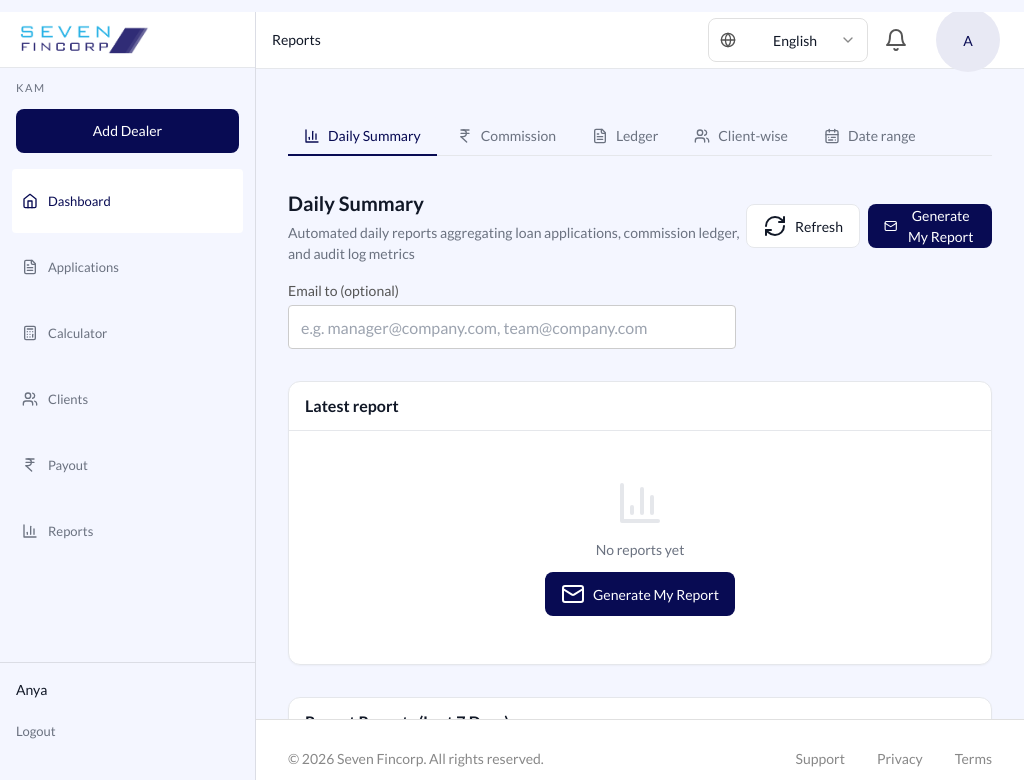
Test case: Reports page for a KAM › says there is no data when the ledger range is empty
The image size is (1024, 780).
Expected: the 1st button "Generate My Report" is shown, [868, 204, 992, 248]
Click the button "Ledger": (625, 136) [576, 117, 674, 156]
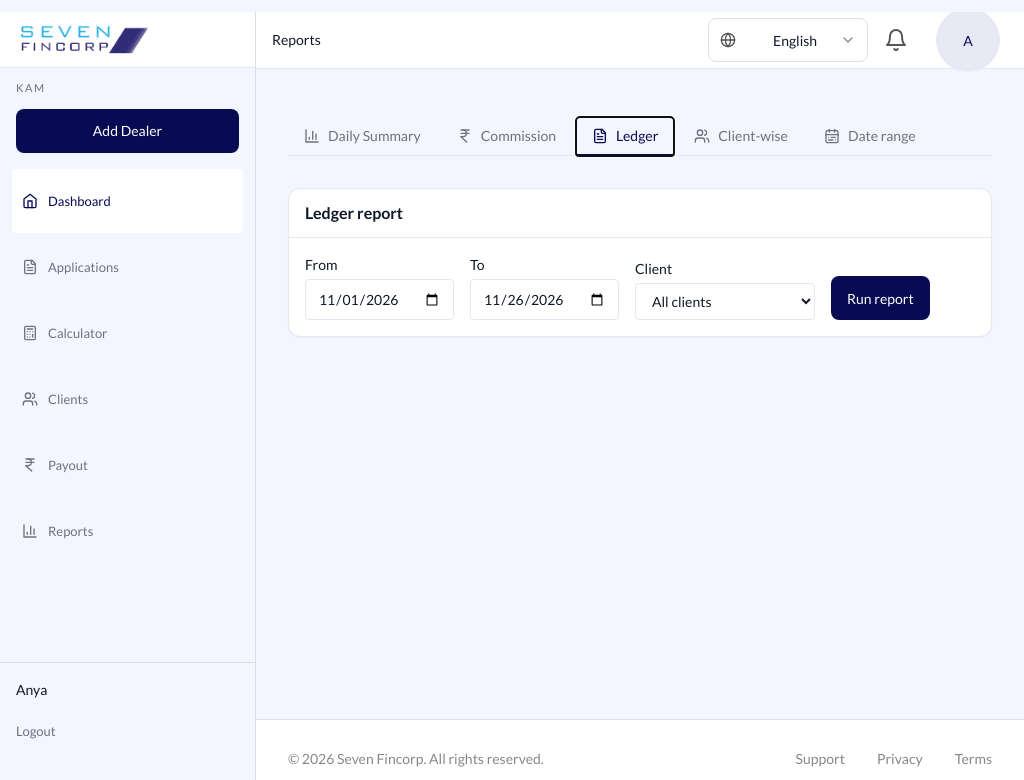
Click the button "Run report": (880, 298) [831, 276, 930, 320]
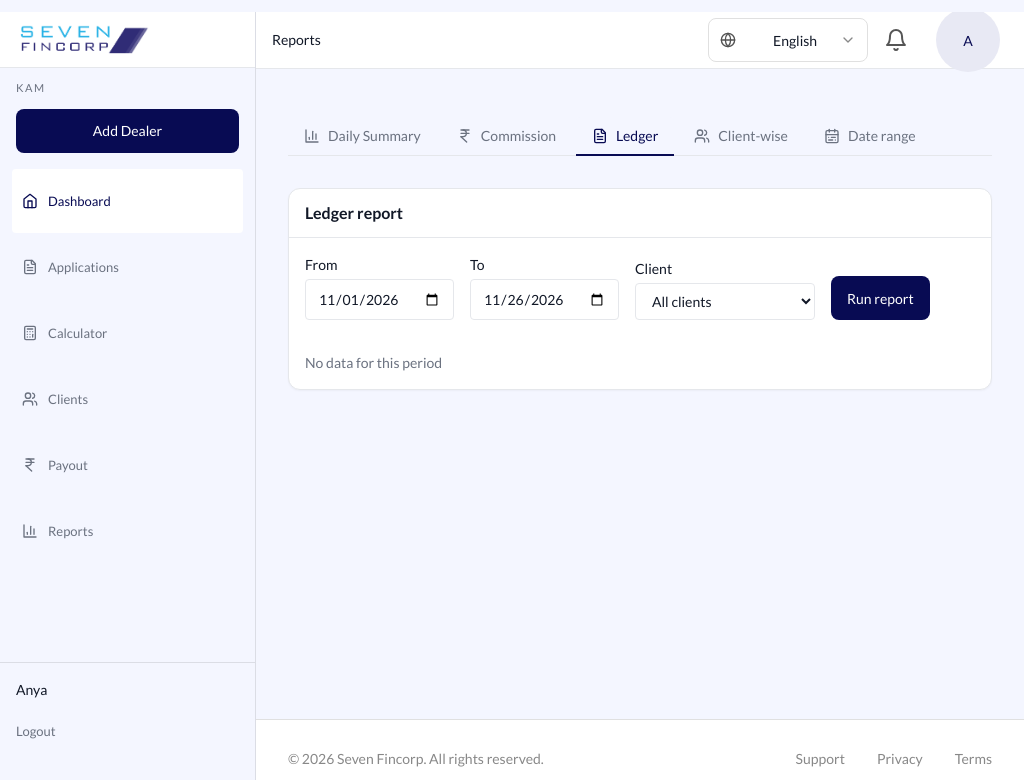
Expected: the text "No data for this period" is shown, [305, 354, 442, 371]
